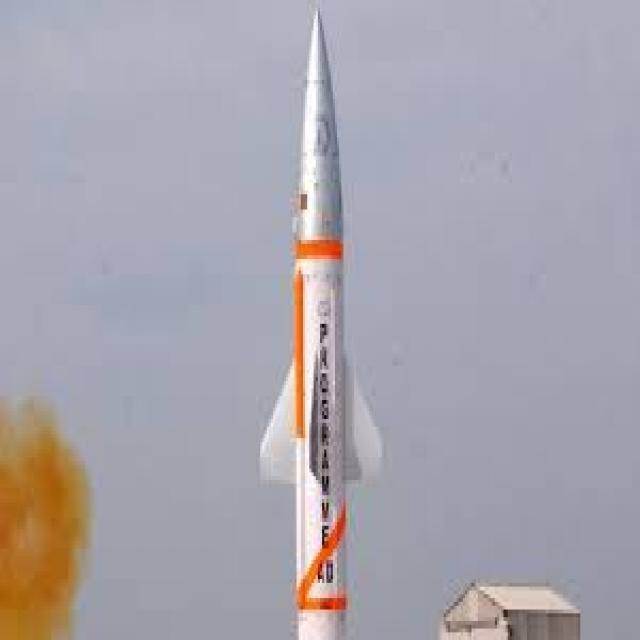missile: (256, 6, 381, 640)
